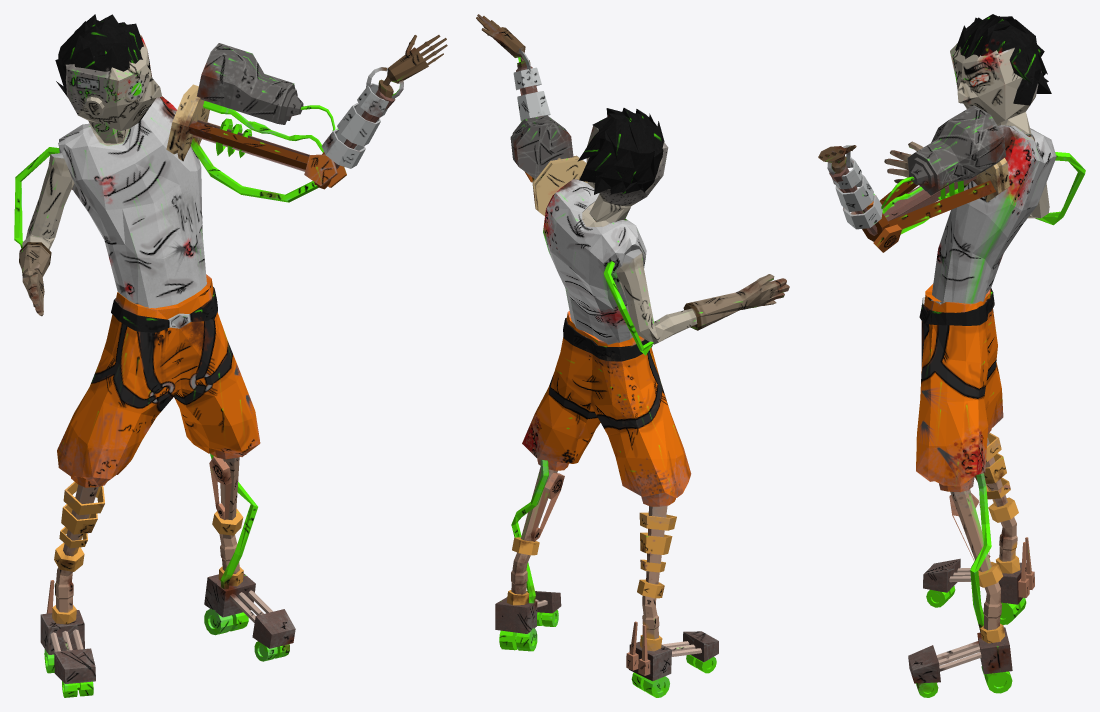
The model's file is CyborgFINALAnimation_000059.obj.
3 views of the same model, side by side, from view 1: azimuth 30°, elevation 25°; view 2: azimuth 150°, elevation 25°; view 3: azimuth 270°, elevation 25° (orthographic). The views are drawn at different scales.
Visible parts, largest first — view 1: CyborgMesh_Cube.002; view 2: CyborgMesh_Cube.002; view 3: CyborgMesh_Cube.002.
Boxes of the visible parts, x1,y1,x2,y2 form: CyborgMesh_Cube.002: [14, 14, 447, 697]; CyborgMesh_Cube.002: [476, 14, 789, 697]; CyborgMesh_Cube.002: [818, 14, 1085, 697].
Size of the model in its own units: 5.9 by 9.54 by 3.74.
